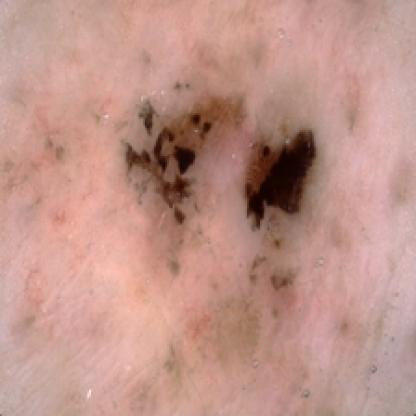Skin_Cancer-Malignant: (122, 97, 316, 232)
